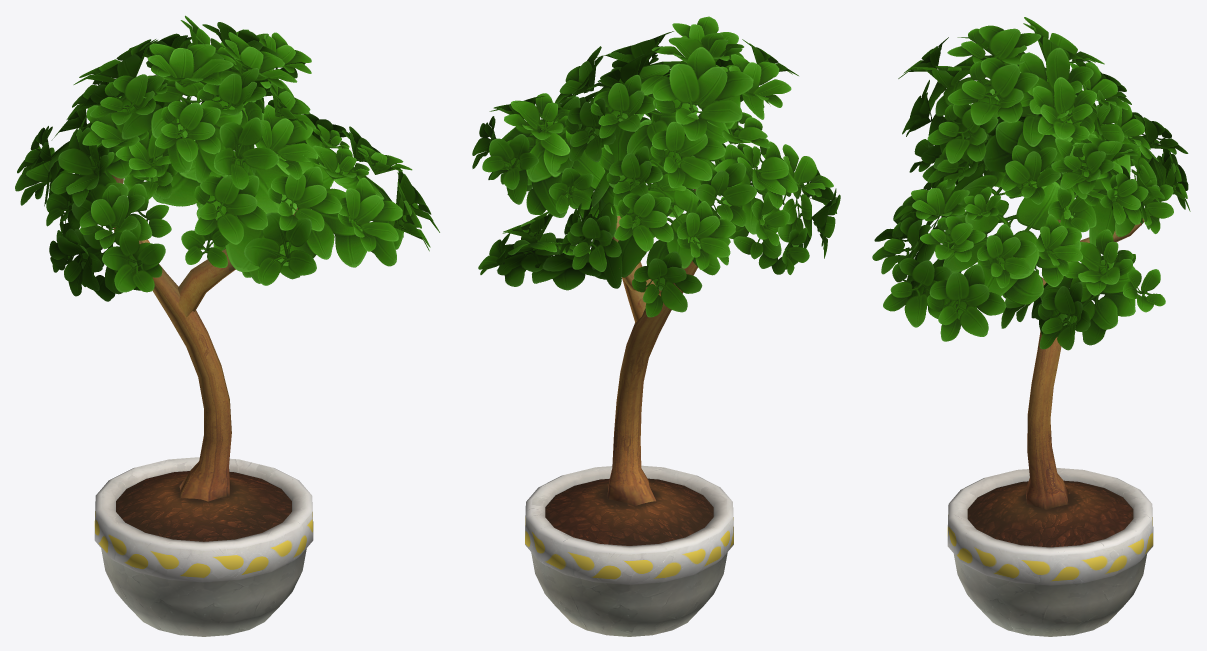
Rendered from SE_Bonsai_a.fbx.
3 views of the same model, side by side, from view 1: azimuth 30°, elevation 25°; view 2: azimuth 150°, elevation 25°; view 3: azimuth 270°, elevation 25° (orthographic). The views are drawn at different scales.
Visible parts, largest first — view 1: SE_Bonsai_a; view 2: SE_Bonsai_a; view 3: SE_Bonsai_a.
Part boxes in pixels (x1,y1,x2,y2): SE_Bonsai_a: (15,15,439,636); SE_Bonsai_a: (472,16,840,636); SE_Bonsai_a: (872,17,1190,636).
Size of the model in its own units: 5.48 by 8.5 by 4.44.
